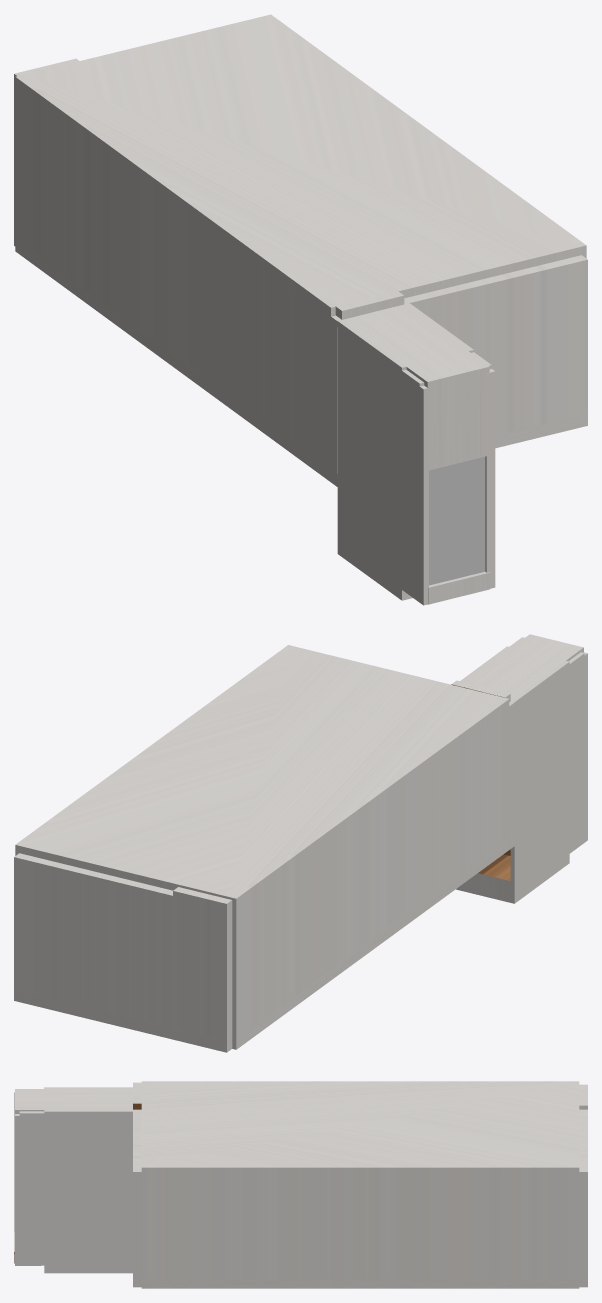
File: TemploLoco (1).fbx
The picture shows the model from 3 angles, top to bottom: view 1: azimuth 30°, elevation 25°; view 2: azimuth 150°, elevation 25°; view 3: azimuth 270°, elevation 25°; orthographic projection. The views are drawn at different scales.
Visible parts, largest first — view 1: Cube; view 2: Cube; view 3: Cube.
Part boxes in pixels (bbox=[...]): Cube: bbox=[14, 14, 587, 605]; Cube: bbox=[14, 634, 587, 1052]; Cube: bbox=[14, 1081, 587, 1288].
Size of the model in its own units: 935 by 846 by 2622.
